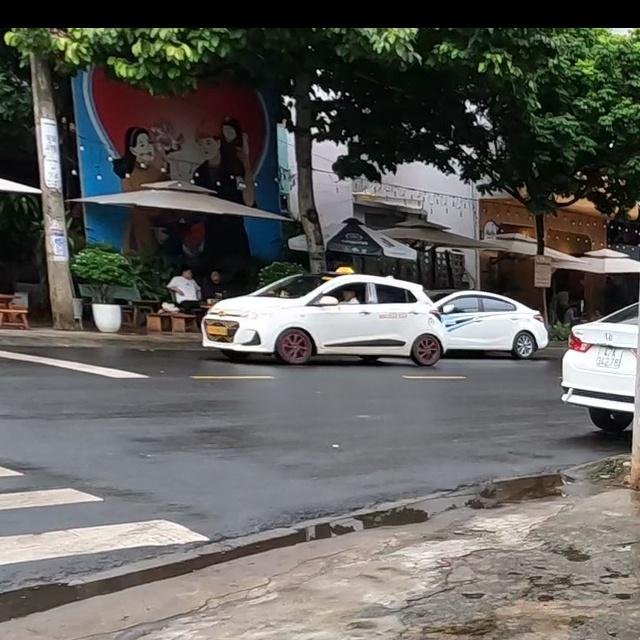license-plate: (596, 348, 622, 369)
